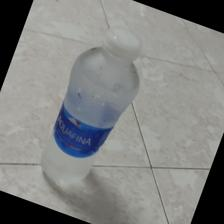Aquafina: (40, 29, 144, 191)
